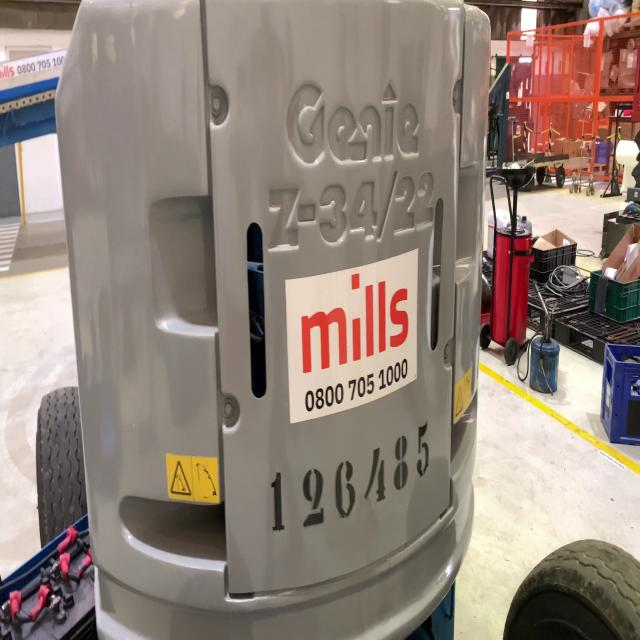Adesivos: (283, 245, 424, 426)
